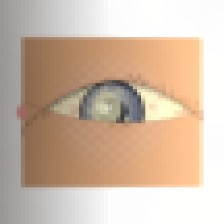corneal_ulcer: (79, 87, 134, 130)
